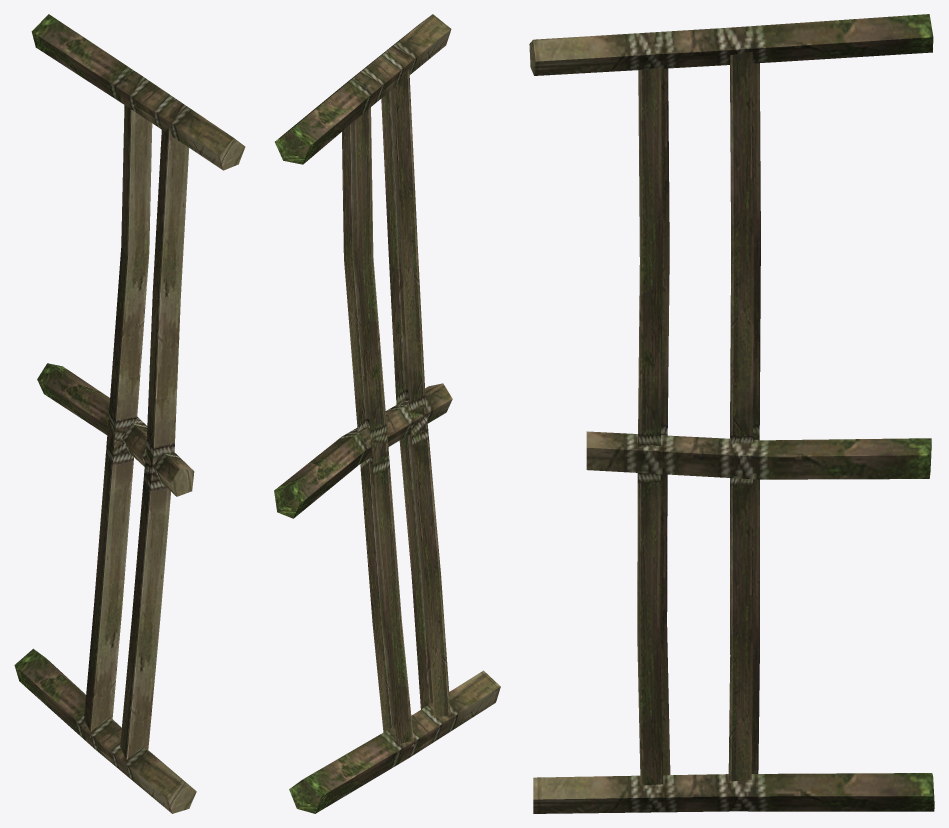
File: zhanchang_fuben_303_zhalan01b.obj
3 renders of one model, left to right at view 1: azimuth 30°, elevation 25°; view 2: azimuth 150°, elevation 25°; view 3: azimuth 270°, elevation 25°, orthographic. The views are drawn at different scales.
Visible parts, largest first — view 1: Object02; view 2: Object02; view 3: Object02.
Part boxes in pixels (x1,y1,x2,y2): Object02: (14,14,245,813); Object02: (274,14,500,813); Object02: (529,14,934,813).
Size of the model in its own units: 25.28 by 205 by 92.39.
Materials: 1 (1 with a texture image).
